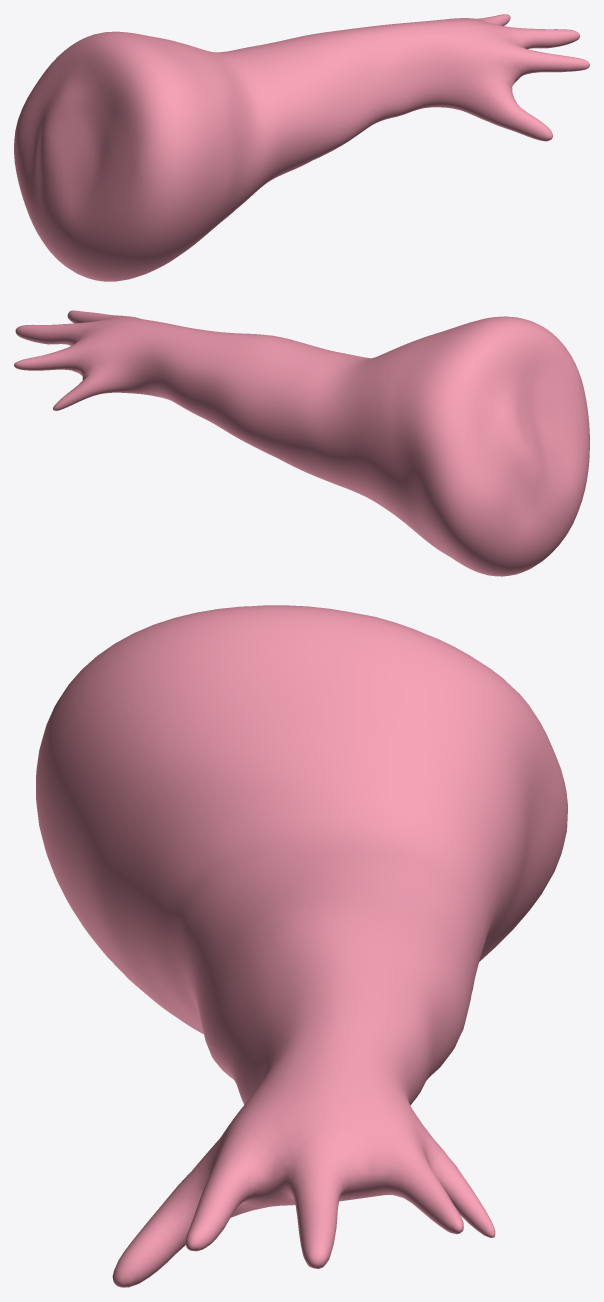
File: Arm_L_Human.fbx
The picture shows the model from 3 angles, top to bottom: view 1: azimuth 30°, elevation 25°; view 2: azimuth 150°, elevation 25°; view 3: azimuth 270°, elevation 25°; orthographic projection. The views are drawn at different scales.
Parts seen in each view (by area): view 1: ObjLArm.001; view 2: ObjLArm.001; view 3: ObjLArm.001.
Boxes of the visible parts, left/top/right/bottom form: ObjLArm.001: left=14, top=14, right=589, bottom=281; ObjLArm.001: left=14, top=310, right=589, bottom=576; ObjLArm.001: left=36, top=605, right=567, bottom=1287.
Bounding box in the file's own units: 174 × 69.18 × 75.53.
